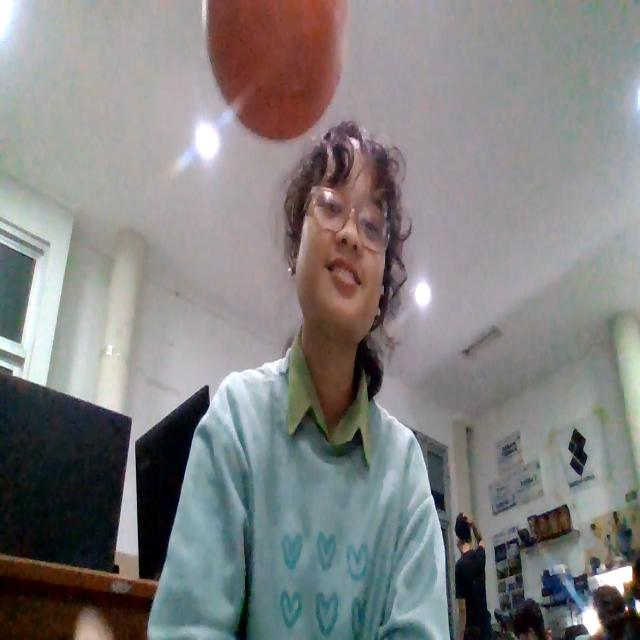ball: (201, 0, 347, 130)
